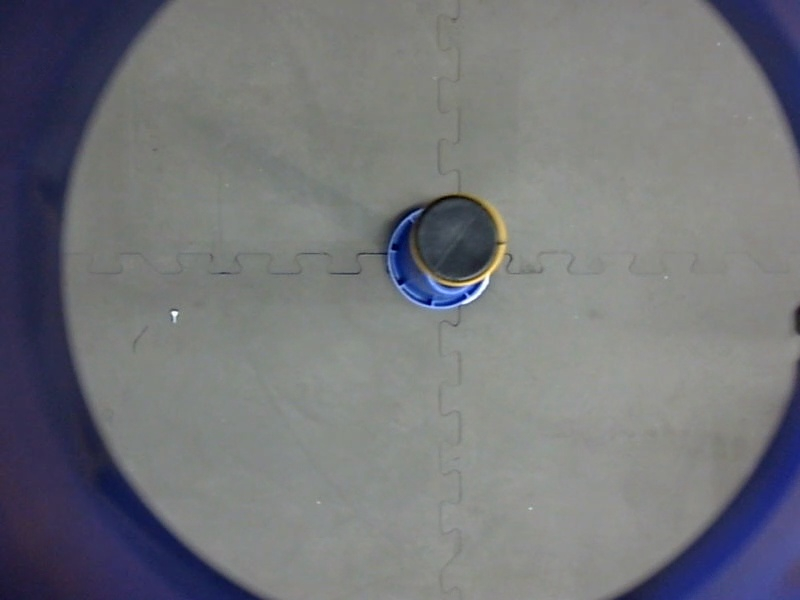tip: (407, 188, 512, 289)
